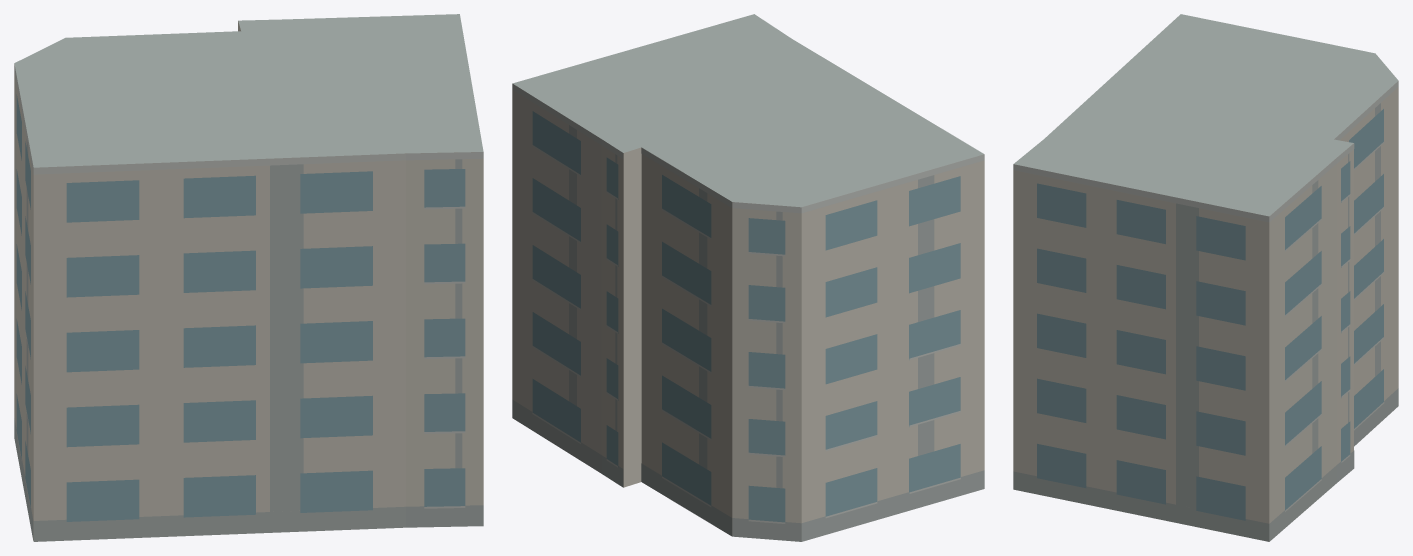
The model's file is survey-upis-32992937.glb.
The picture shows the model from 3 angles, left to right: view 1: azimuth 30°, elevation 25°; view 2: azimuth 150°, elevation 25°; view 3: azimuth 270°, elevation 25°; orthographic projection. The views are drawn at different scales.
Visible parts, largest first — view 1: survey-upis-32992937.tmp; view 2: survey-upis-32992937.tmp; view 3: survey-upis-32992937.tmp.
Boxes of the visible parts, x1,y1,x2,y2 form: survey-upis-32992937.tmp: [14, 14, 483, 541]; survey-upis-32992937.tmp: [512, 14, 984, 541]; survey-upis-32992937.tmp: [1013, 14, 1398, 541].
Bounding box in the file's own units: 17.62 × 13.2 × 14.17.
